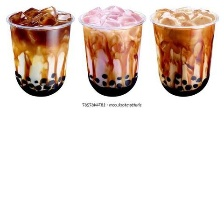glass: (147, 3, 222, 100), (2, 4, 76, 100), (74, 6, 148, 100)
